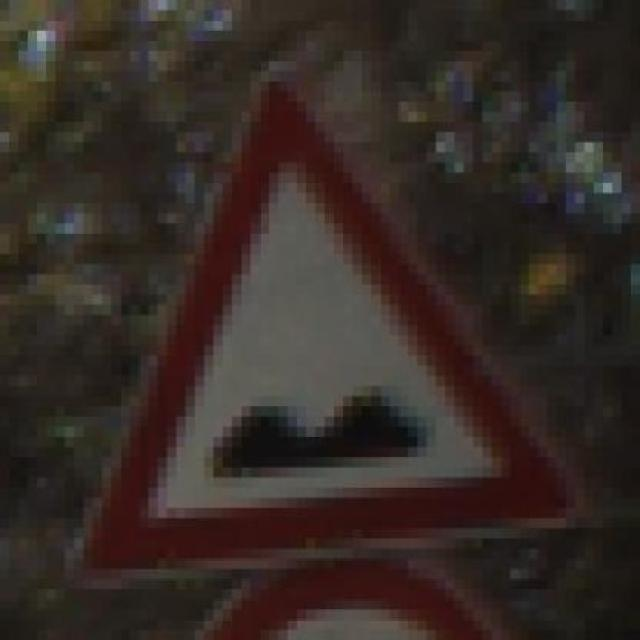Uneven Road: (74, 61, 594, 568)
